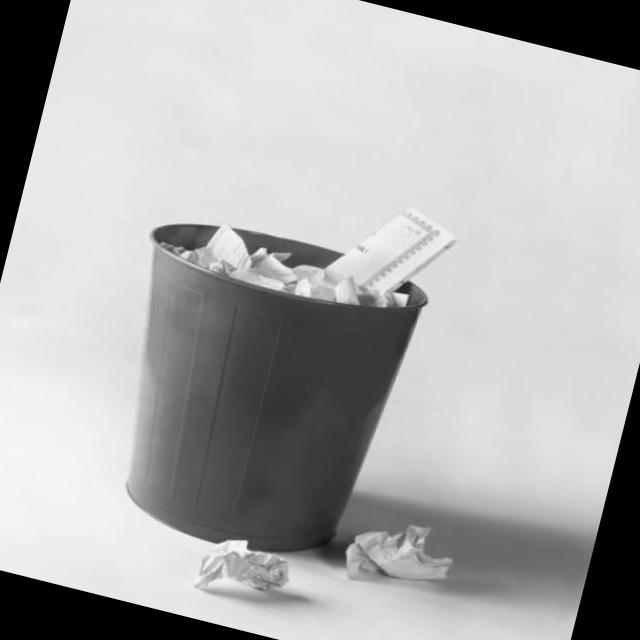electronic: (163, 210, 414, 322), (318, 189, 461, 312), (337, 507, 459, 602), (192, 528, 296, 610)
